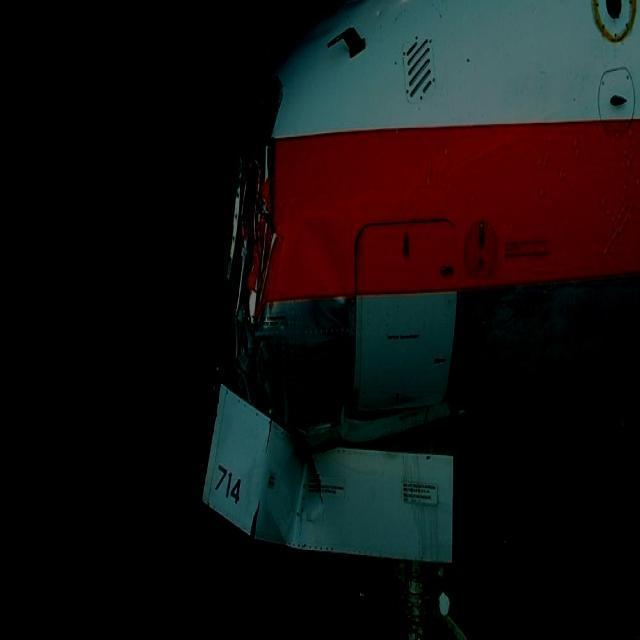dent: (299, 214, 352, 308)
